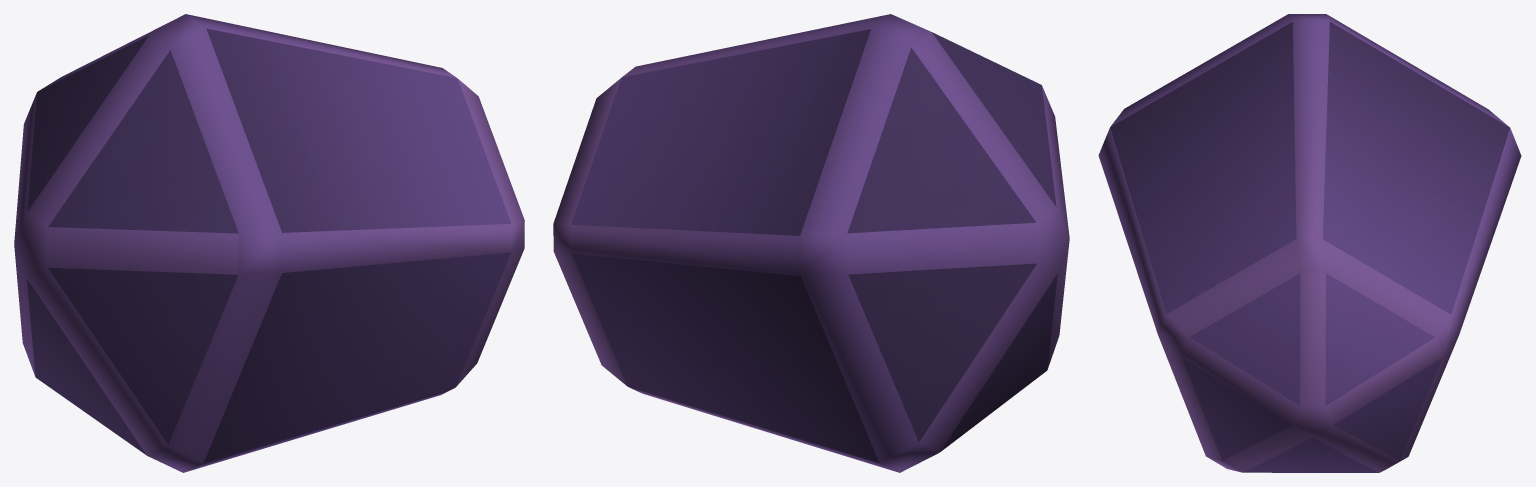
Rendered from christal_amethyst_8.fbx.
3 views of the same model, side by side, from view 1: azimuth 30°, elevation 25°; view 2: azimuth 150°, elevation 25°; view 3: azimuth 270°, elevation 25° (orthographic). The views are drawn at different scales.
Parts seen in each view (by area): view 1: christal_amethyst_8; view 2: christal_amethyst_8; view 3: christal_amethyst_8.
Boxes of the visible parts, box(x1,y1,x2,y2) form: christal_amethyst_8: box(14, 14, 524, 472); christal_amethyst_8: box(553, 14, 1069, 472); christal_amethyst_8: box(1098, 14, 1521, 472).
Size of the model in its own units: 34.31 by 26.15 by 27.94.
1 material, 1 textured.
